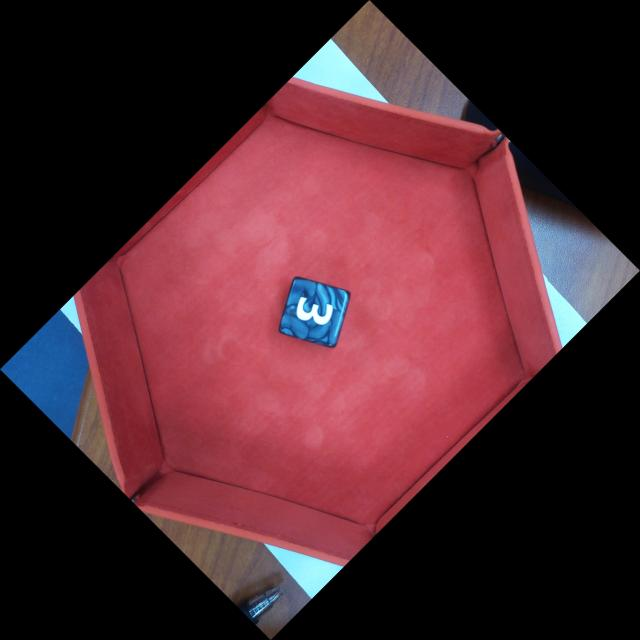dice: (281, 279, 349, 346)
